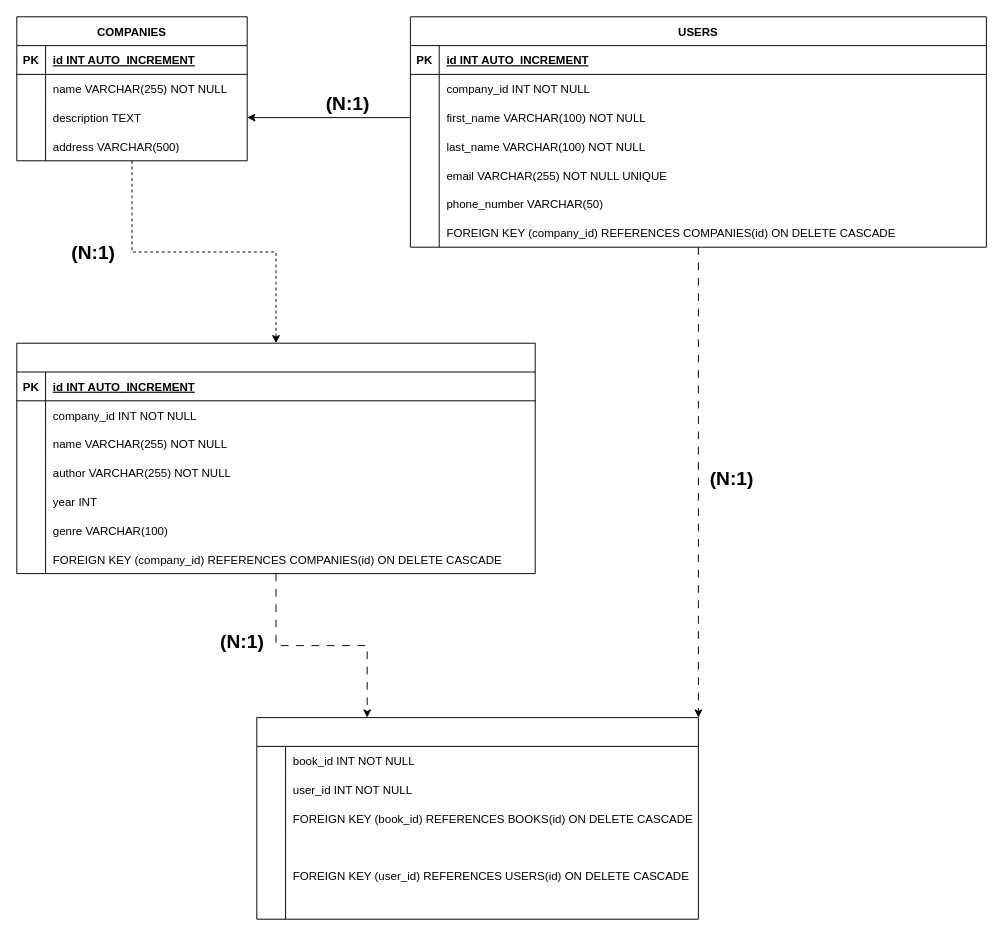
This 1003x936 diagram has some shape labels left out. The shapes that lost their labels are listed below. From the top down, each one's box as (x1, y1, x2, y2) in pixels, then its label:
(16, 342, 535, 574): BOOKS
(256, 717, 698, 919): BOOKS_USERS
